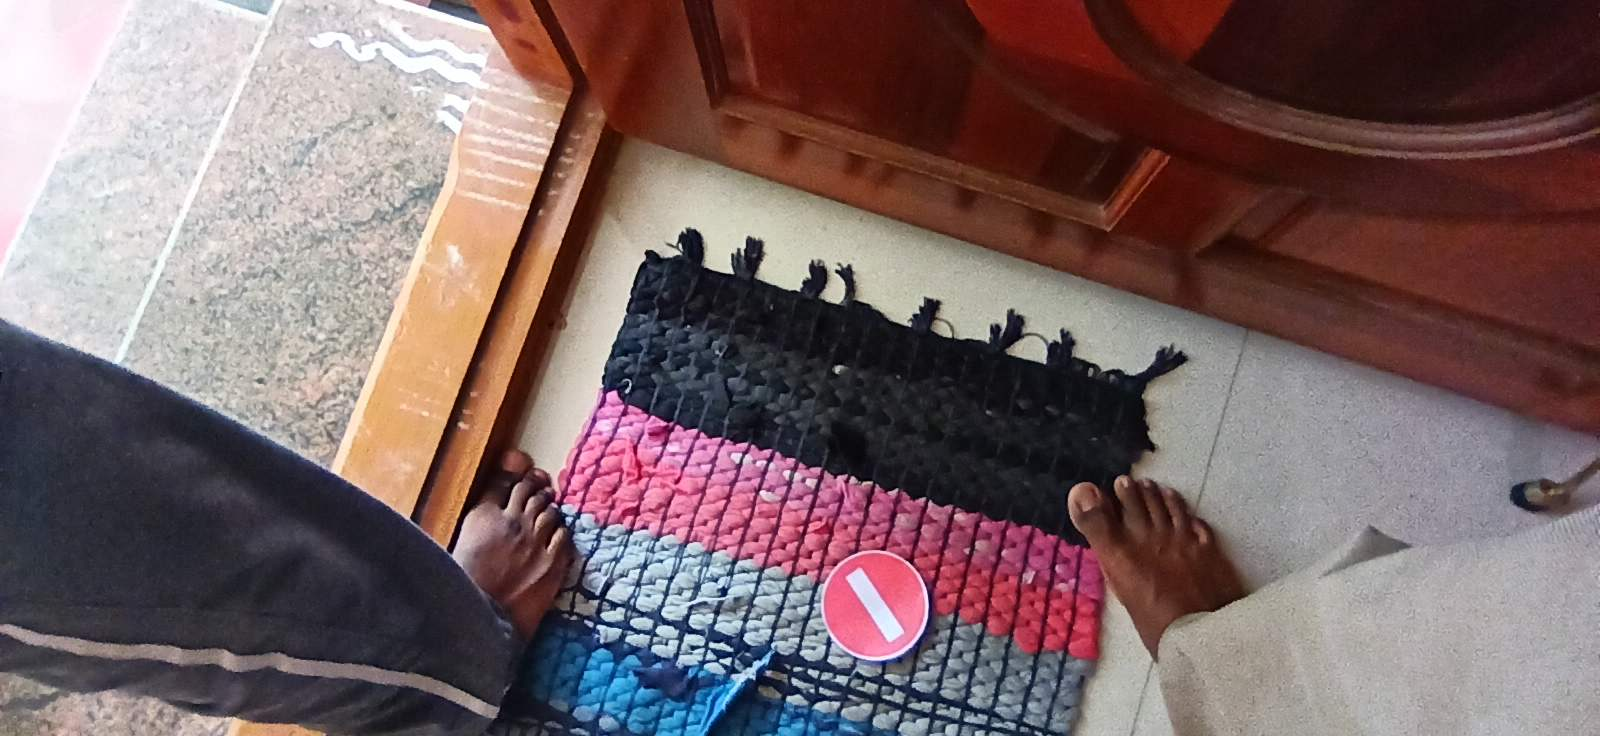NO ENTRY: (806, 520, 946, 677)
